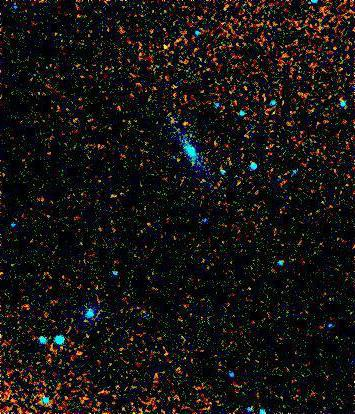star: (147, 32, 177, 62)
